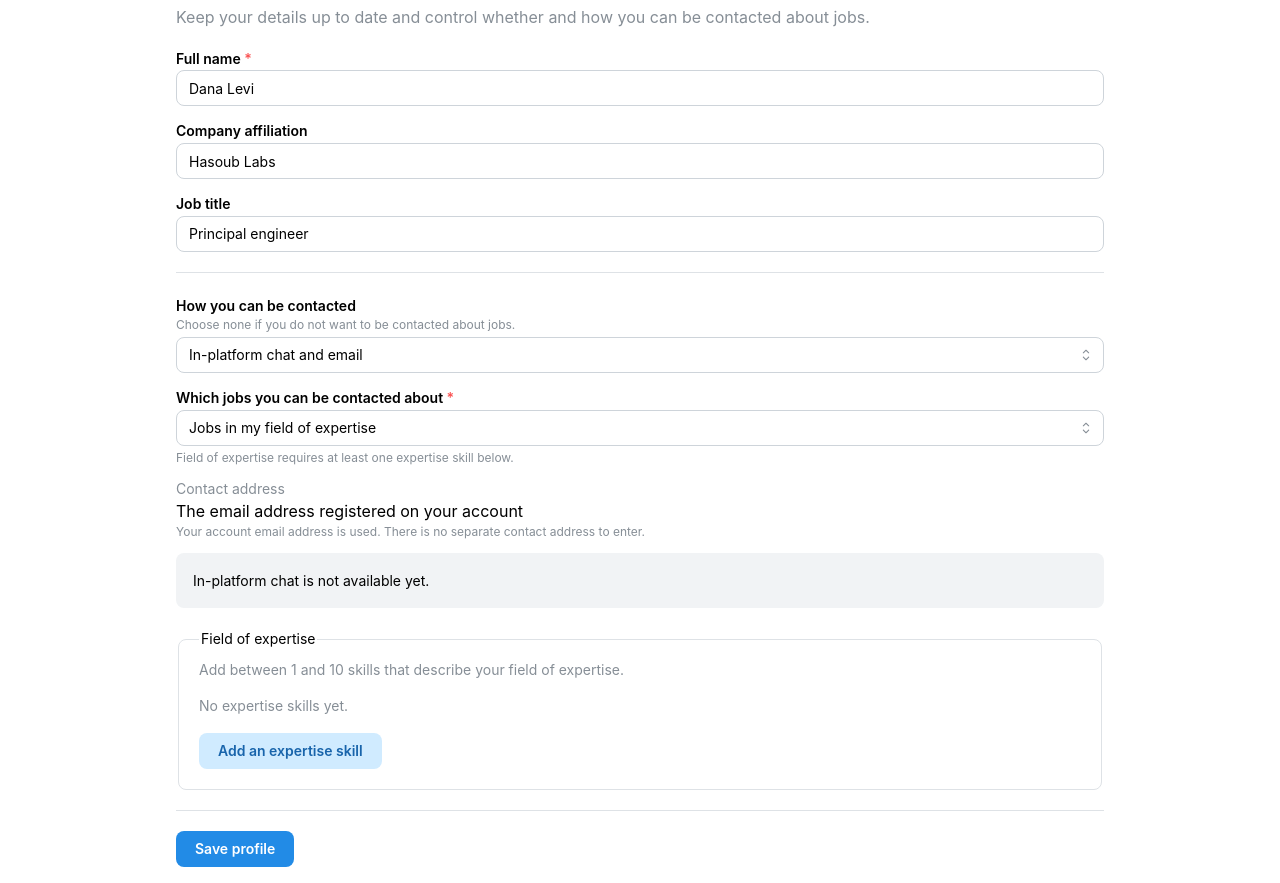
Test: the scope FieldOfExpertise (Req 10 AC7) › reports the empty expertise editor before any request is issued
(page scrolled)
Expected: the text "No expertise skills yet." is shown, [199,697,348,714]
Click the button with test id "senior-profile-save" at (235, 849), box [176,831,294,867]
(page scrolled)
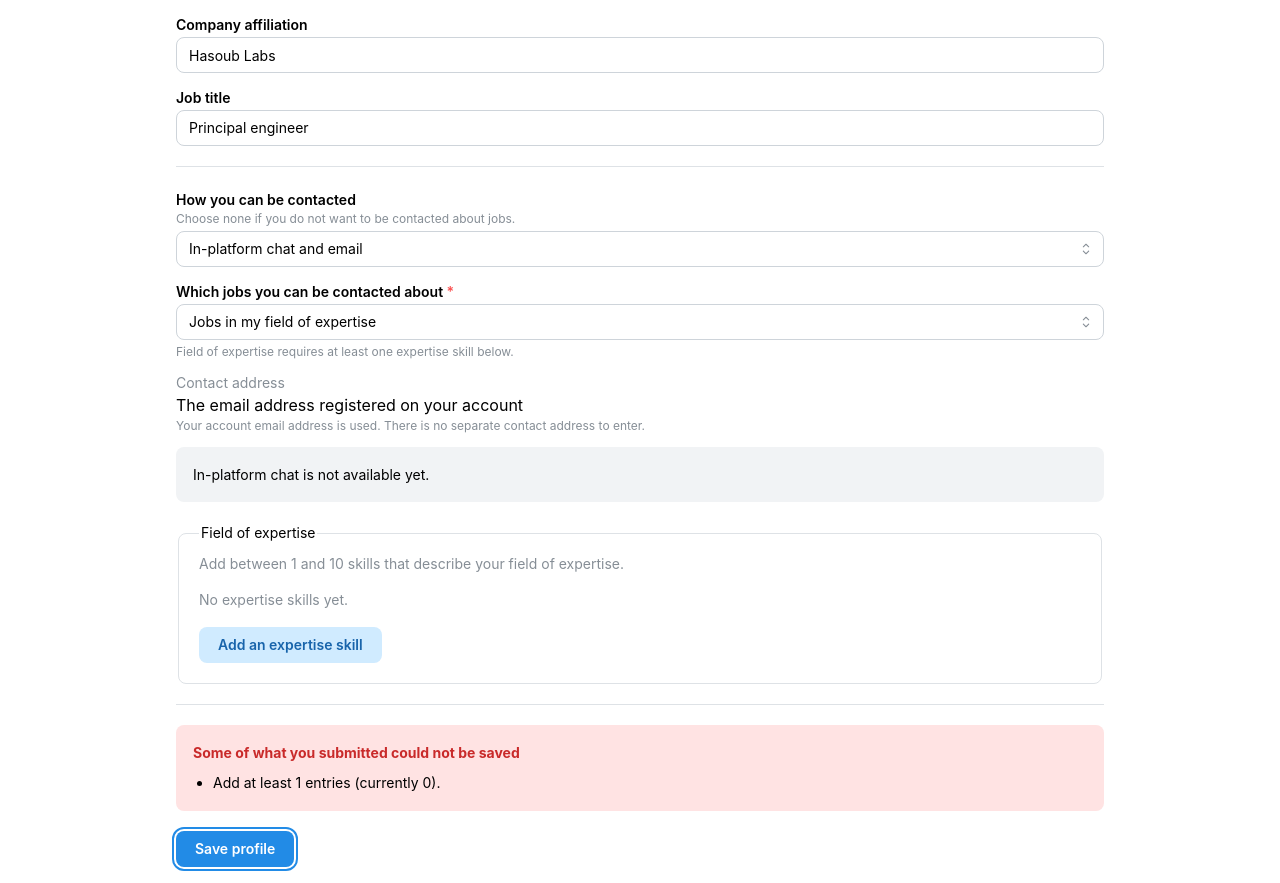
Expected: the message with test id "form-level-messages" shows "Add at least 1 entries", [213,774,440,791]
